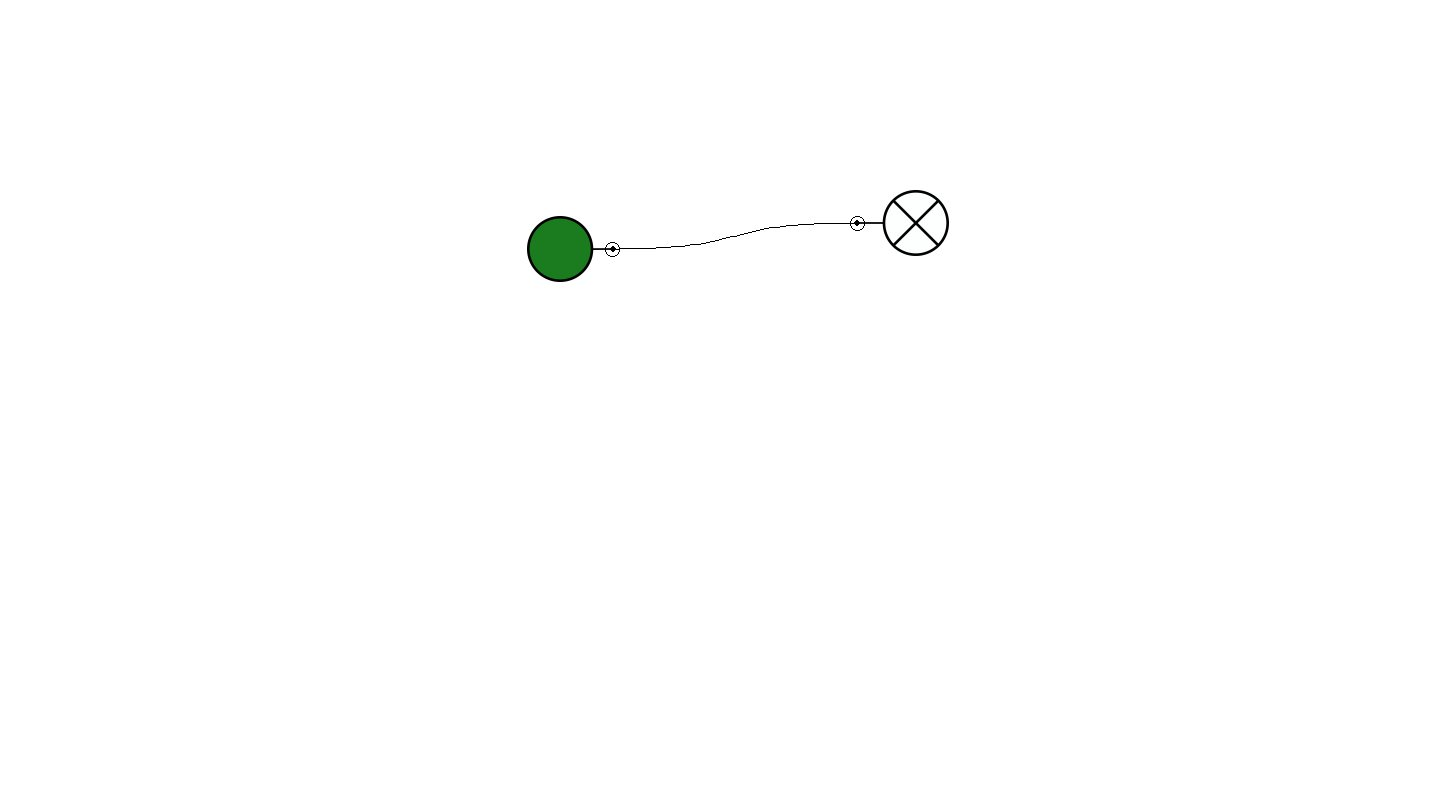bulb: (850, 190, 949, 256)
switch_True: (527, 216, 620, 282)
